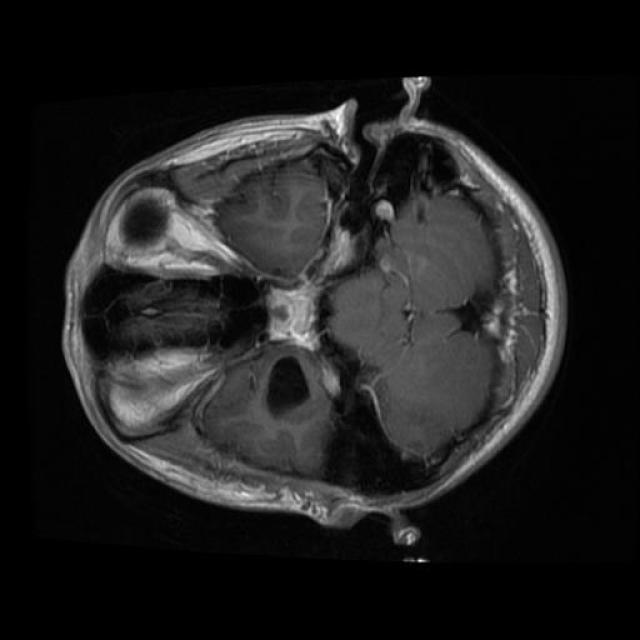Glioma: (267, 357, 309, 416)
